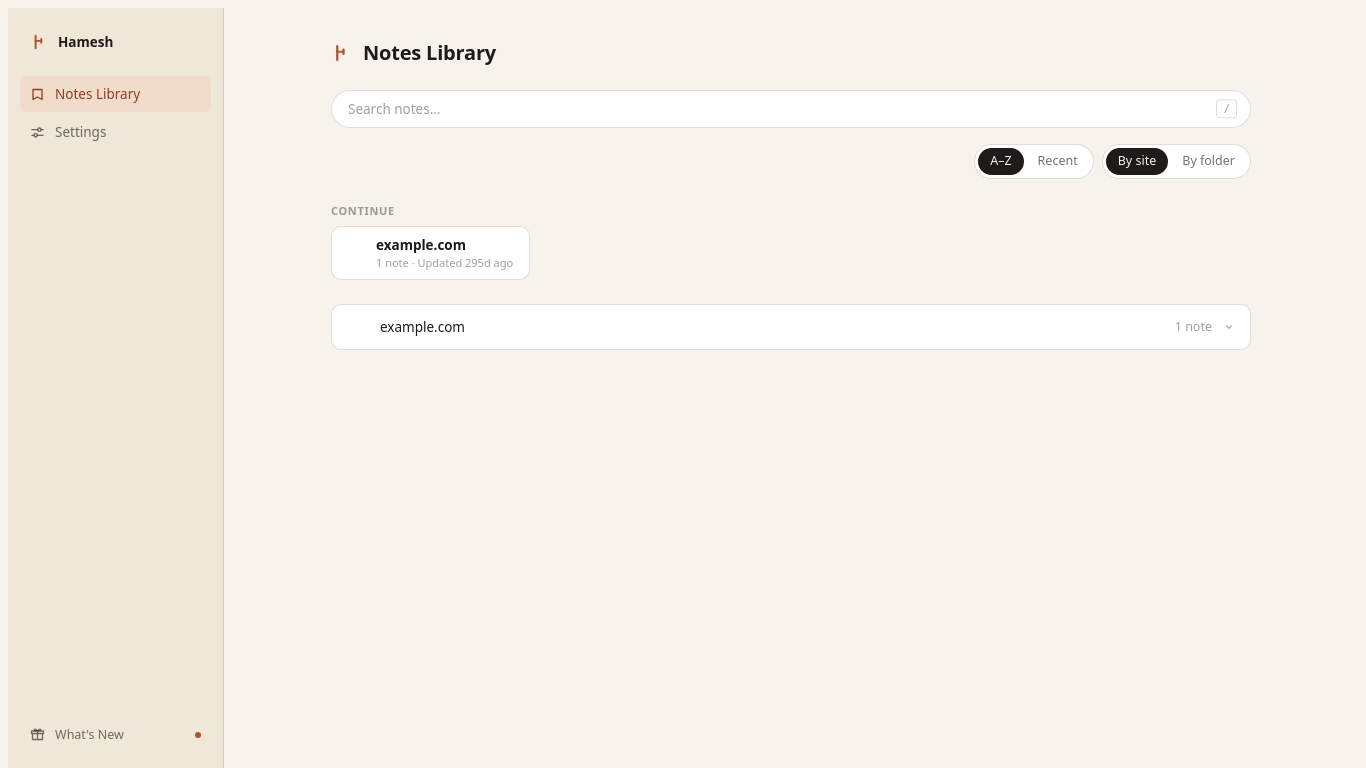
Test: Notes Library page › search › shows a distinct "no matches" state when the search has no results
This screenshot has width=1366, height=768.
In the search field with placeholder "Search notes…": (791, 109) [331,90,1251,128], type "nonexistent-term"
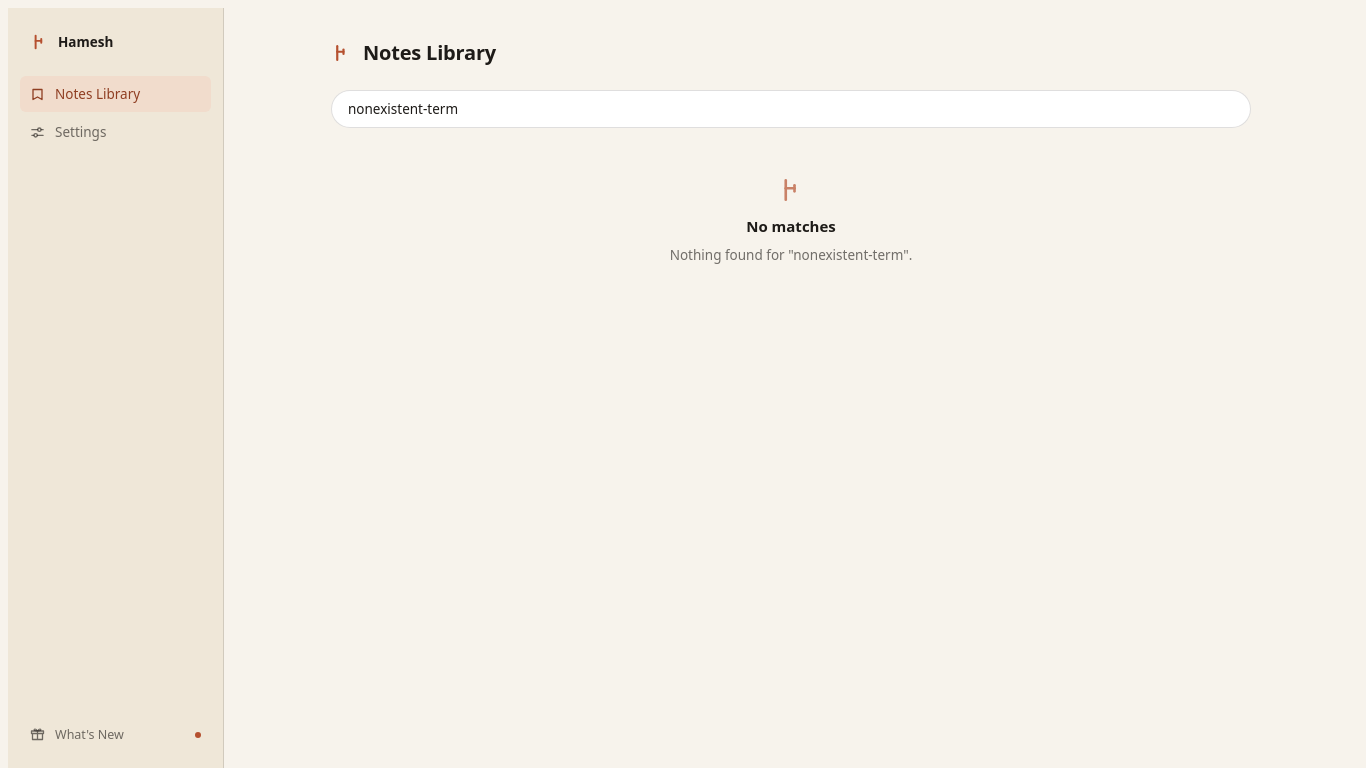
Now the text "No matches" is shown, box [746,216,836,237]
Now the text "Nothing found for \"nonexistent-term\"." is shown, box [670,245,912,265]
